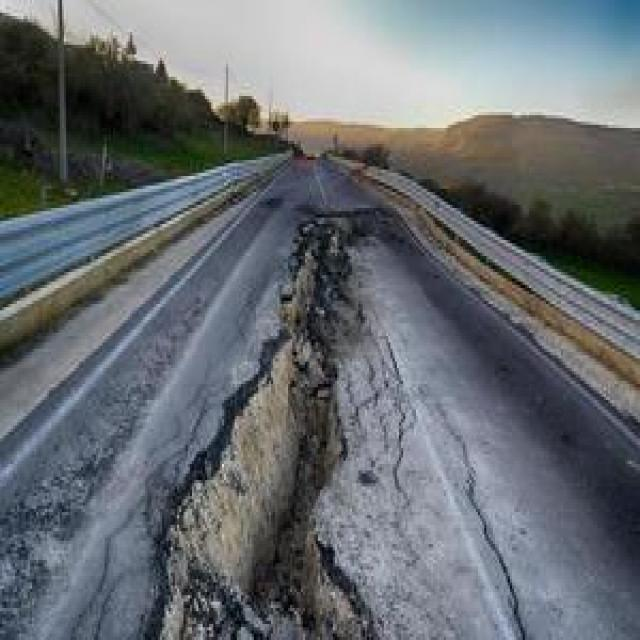road collapse: (10, 160, 640, 640)
